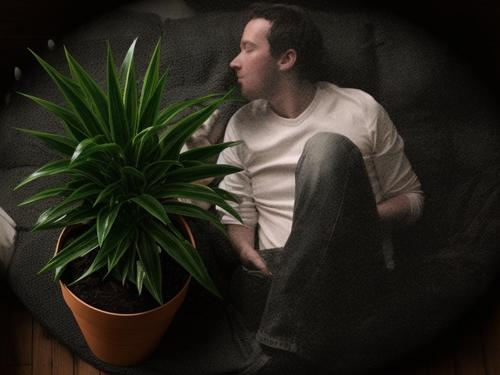person: (197, 4, 424, 374)
person/hand: (217, 228, 274, 305)
person/head: (228, 12, 327, 122)
pottedplant: (12, 37, 242, 375)
sofa: (2, 4, 500, 368)
